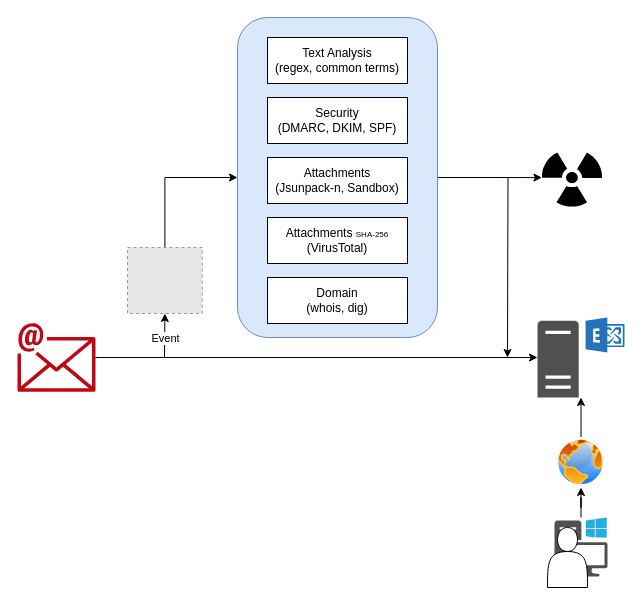
The diagram is 644 pixels wide and 605 high, and some of its shapes have lost their labels. Grey dashed boxes stand in for pictures. The shapes that lost their labels are listed below. From the top down, each one's centre as x and y in pixels, then its label:
(571,179): Quarantine
(580,357): Exchange Server
